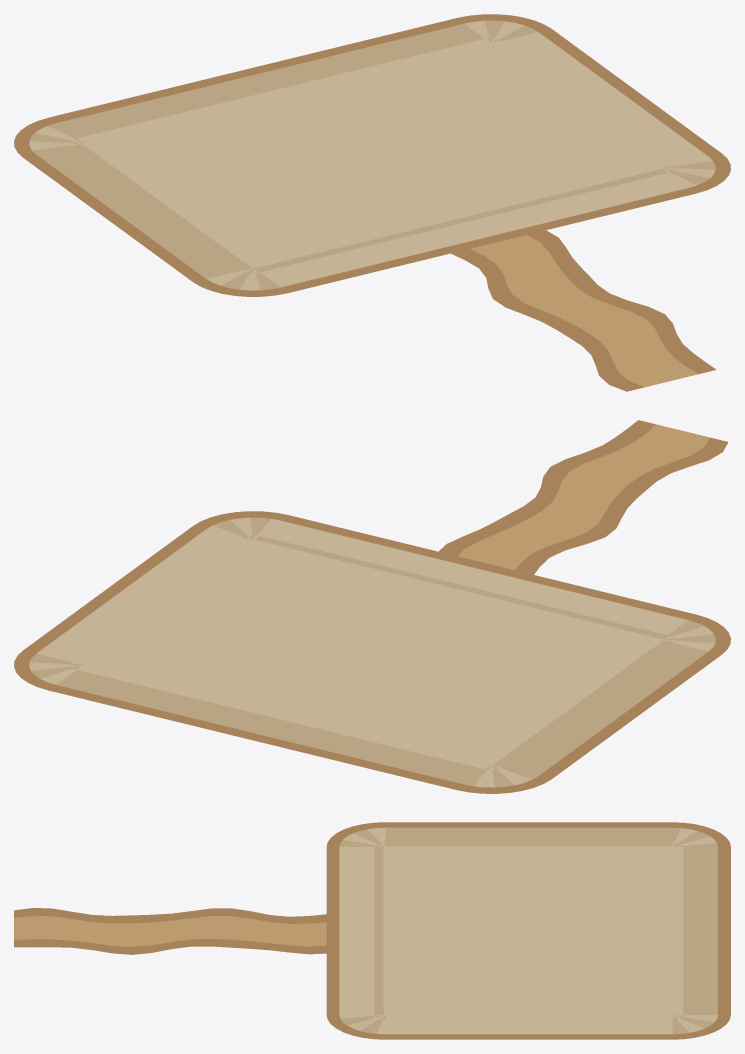
Rendered from market_ground.glb.
The picture shows the model from 3 angles, top to bottom: view 1: azimuth 30°, elevation 25°; view 2: azimuth 150°, elevation 25°; view 3: azimuth 270°, elevation 25°; orthographic projection. The views are drawn at different scales.
Parts seen in each view (by area): view 1: Market_Ground; view 2: Market_Ground; view 3: Market_Ground.
Boxes of the visible parts, left/top/right/bottom form: Market_Ground: left=14, top=14, right=730, bottom=391; Market_Ground: left=14, top=420, right=730, bottom=793; Market_Ground: left=14, top=822, right=730, bottom=1039.
Size of the model in its own units: 14 by 0.01 by 19.5.
